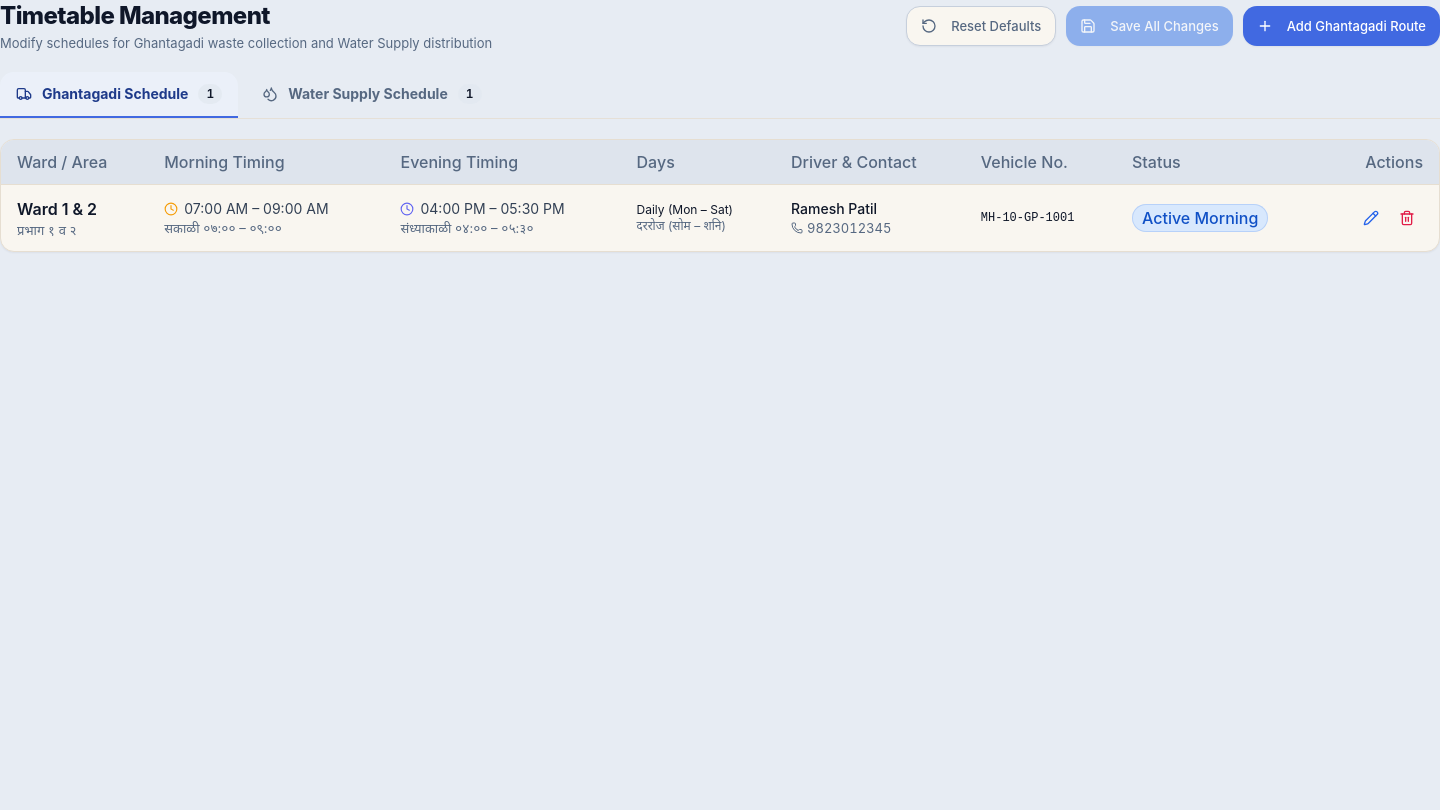
Test: TimetableAdmin › allows adding a new route via the add button
Click the button "Add Ghantagadi Route": (1341,26) [1243,6,1439,46]
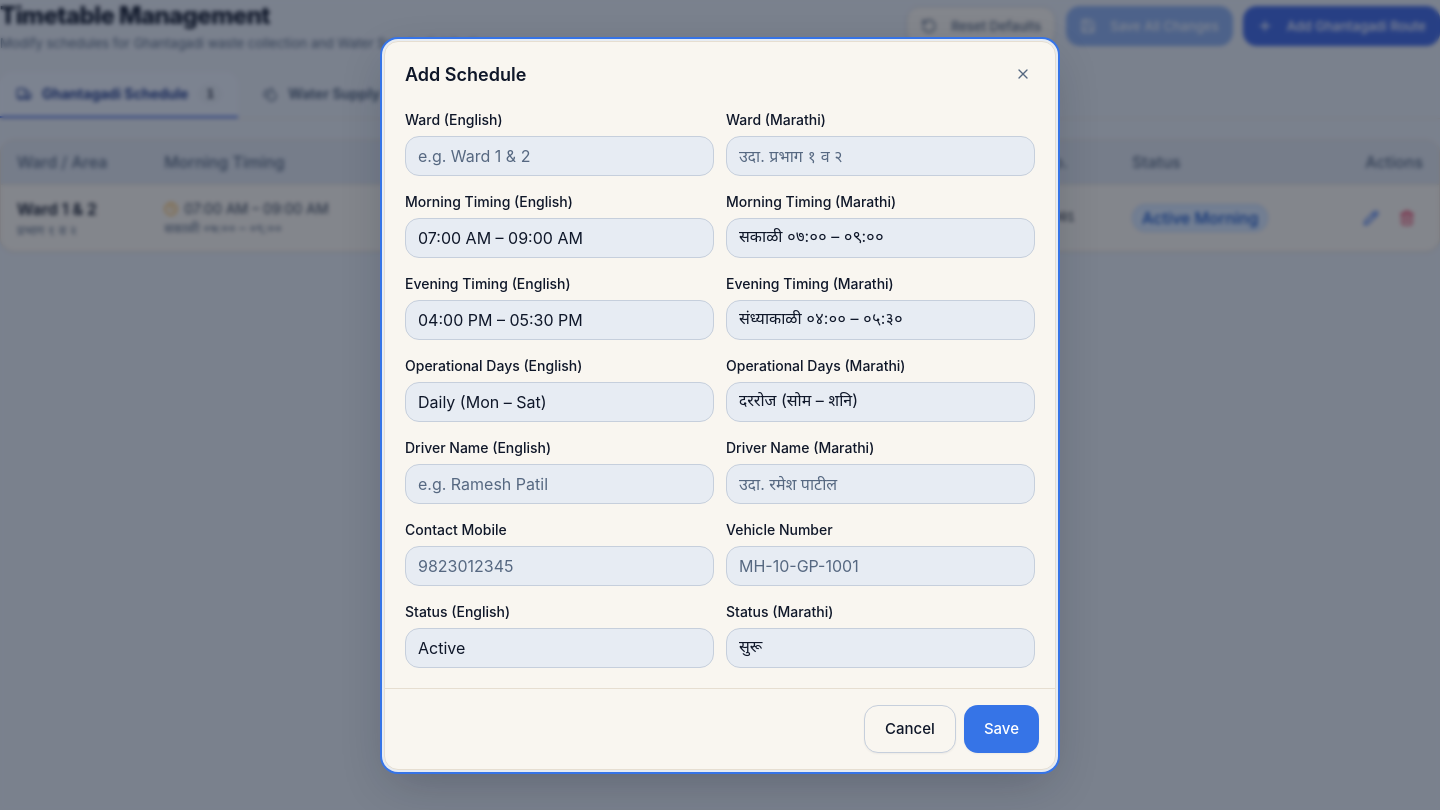
Now the dialog is shown, box [384,40,1056,770]
Now the field with placeholder "e.g. Ward 1 & 2" is shown, box [405,136,714,176]
